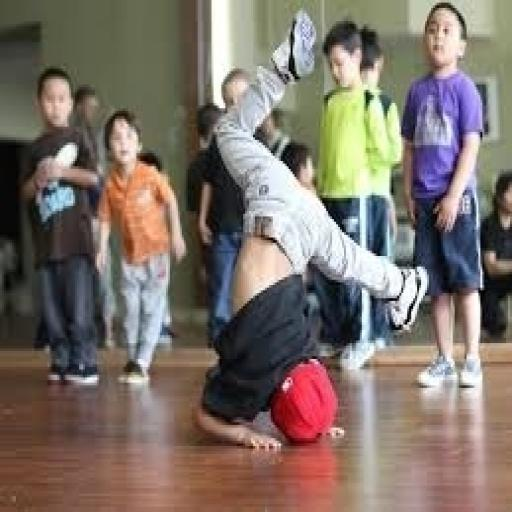dancing: (192, 8, 431, 454)
